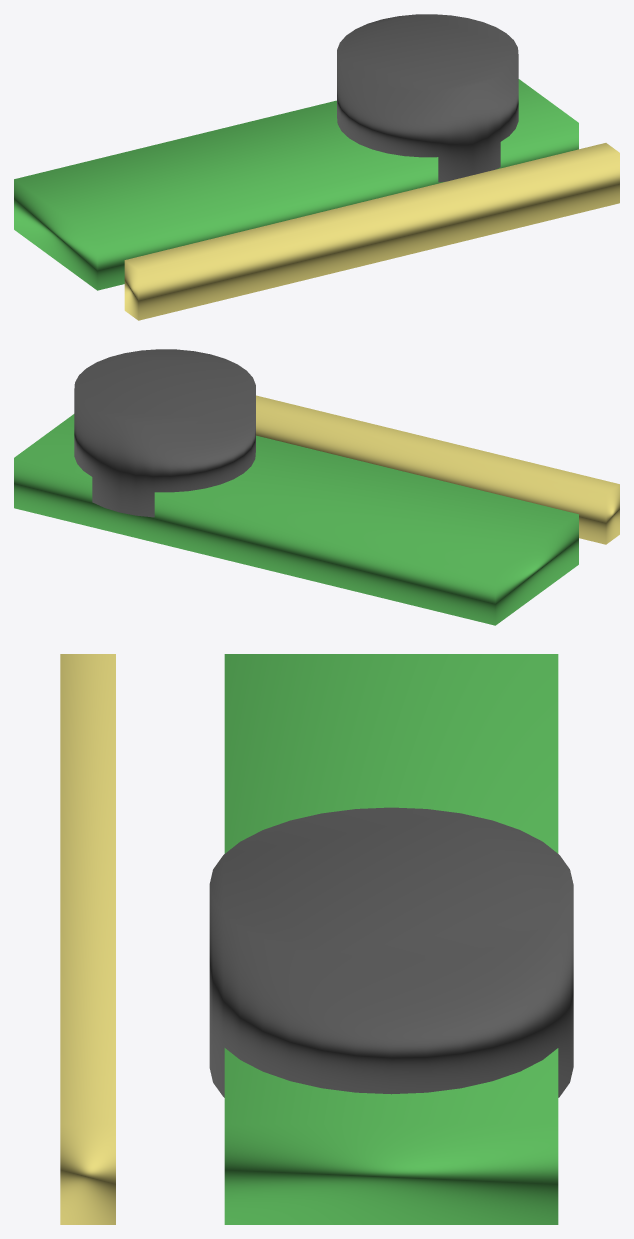
File: gpu.glb
3 renders of one model, top to bottom at view 1: azimuth 30°, elevation 25°; view 2: azimuth 150°, elevation 25°; view 3: azimuth 270°, elevation 25°, orthographic. The views are drawn at different scales.
Parts seen in each view (by area): view 1: Cube; view 2: Cube; view 3: Cube.
Boxes of the visible parts, x1,y1,x2,y2 form: Cube: (14, 14, 619, 320); Cube: (14, 349, 619, 625); Cube: (60, 654, 573, 1224).
Size of the model in its own units: 0.11 by 0.0255 by 0.0507.
